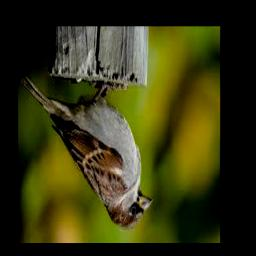Sparrow: (21, 77, 152, 230)
